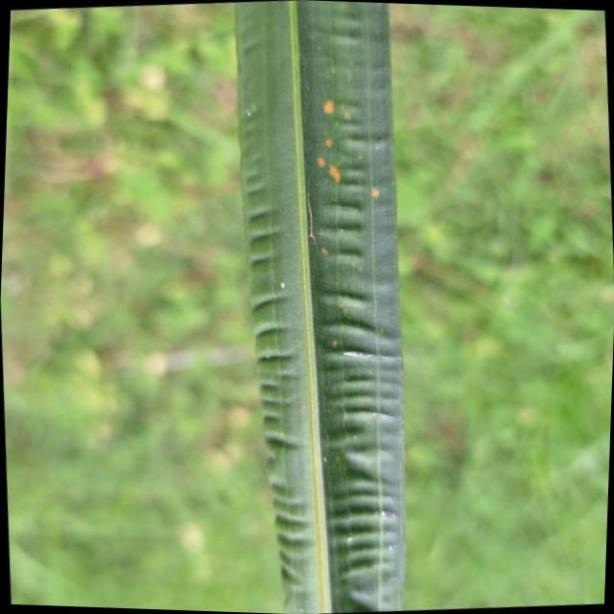Boron: (237, 0, 406, 614)
